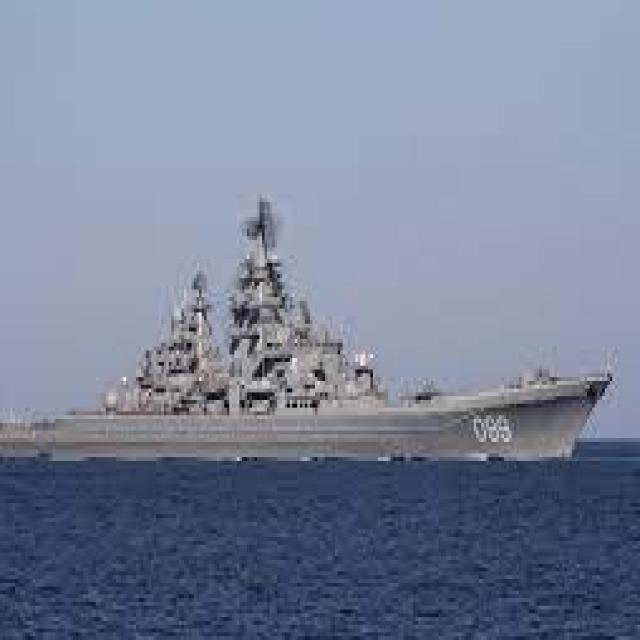navalvessels: (0, 195, 607, 472)
